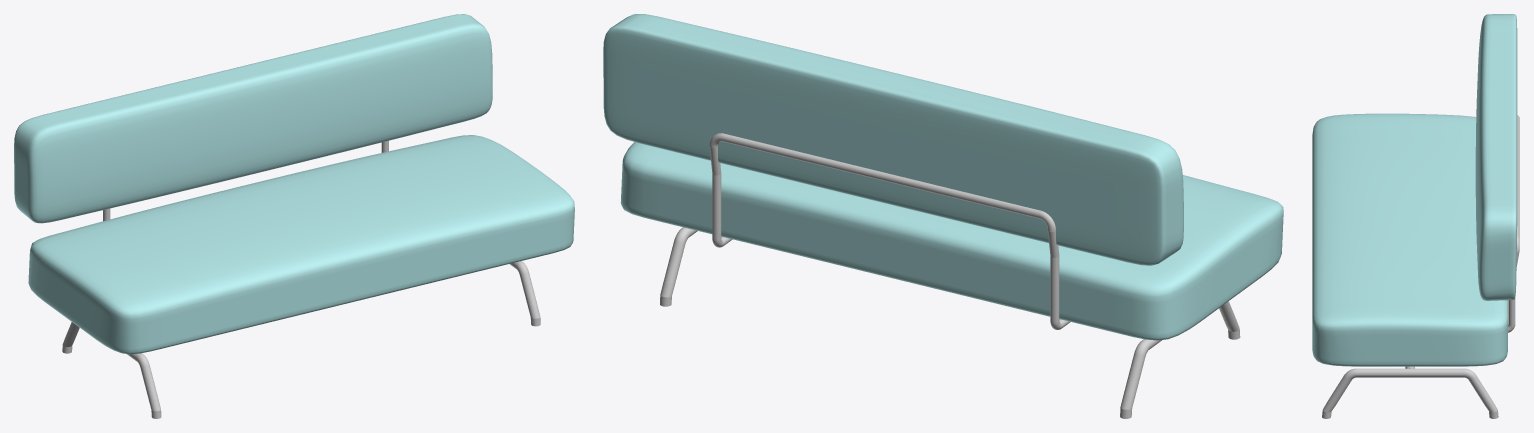
File: sofa.fbx
The picture shows the model from 3 angles, left to right: view 1: azimuth 30°, elevation 25°; view 2: azimuth 150°, elevation 25°; view 3: azimuth 270°, elevation 25°; orthographic projection. The views are drawn at different scales.
Parts seen in each view (by area): view 1: Cube.001_Velours, Cube.001_Velours.001, Cylinder.006_Chrome; view 2: Cube.001_Velours.001, Cube.001_Velours, Cylinder.006_Chrome; view 3: Cube.001_Velours, Cube.001_Velours.001, Cylinder.006_Chrome.
Part boxes in pixels (left/top/right/bottom): Cube.001_Velours: left=28, top=135, right=574, bottom=354; Cube.001_Velours.001: left=14, top=14, right=492, bottom=223; Cylinder.006_Chrome: left=62, top=140, right=540, bottom=418; Cube.001_Velours.001: left=603, top=14, right=1183, bottom=265; Cube.001_Velours: left=620, top=142, right=1283, bottom=340; Cylinder.006_Chrome: left=660, top=133, right=1240, bottom=418; Cube.001_Velours: left=1312, top=113, right=1507, bottom=366; Cube.001_Velours.001: left=1475, top=14, right=1517, bottom=300; Cylinder.006_Chrome: left=1322, top=115, right=1519, bottom=418.
Size of the model in its own units: 10.86 by 5.21 by 4.5.
